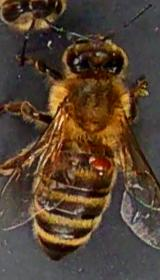varroa_mite: (72, 152, 124, 176)
